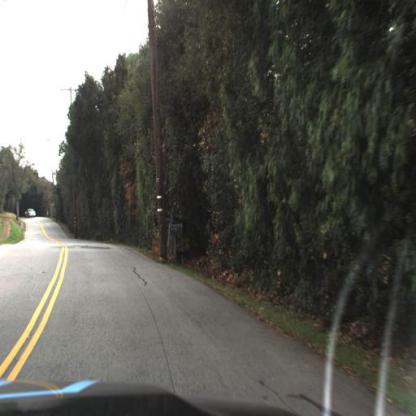car: (22, 204, 40, 222), (26, 207, 40, 217)
